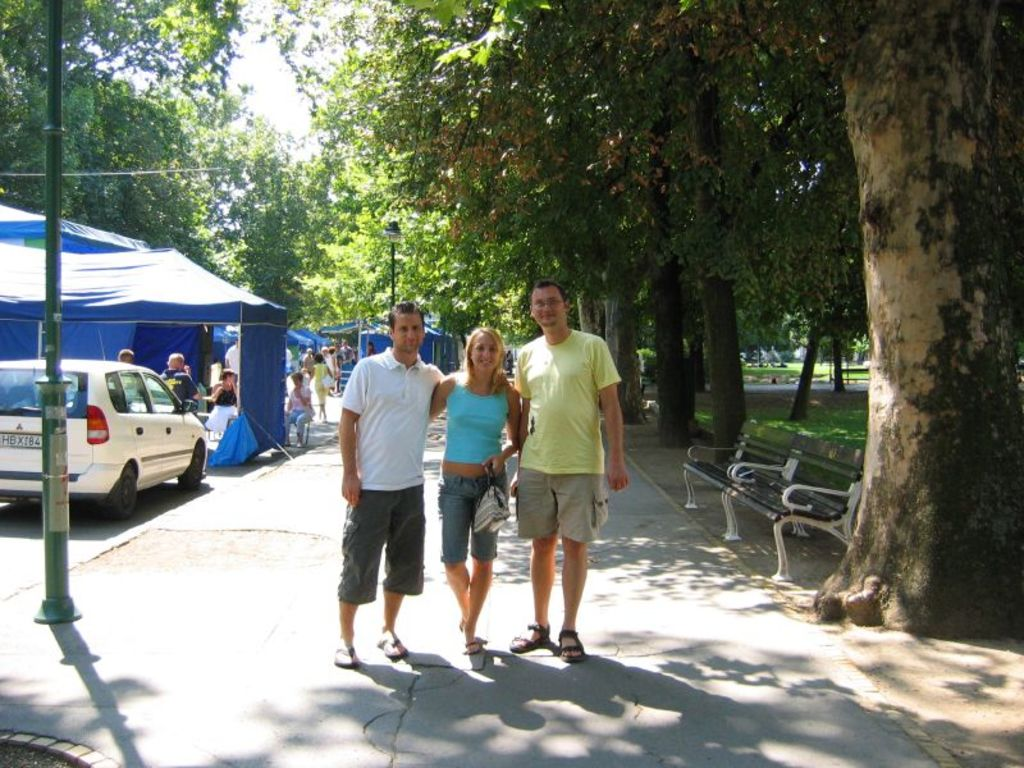Car: (19, 359, 217, 526)
